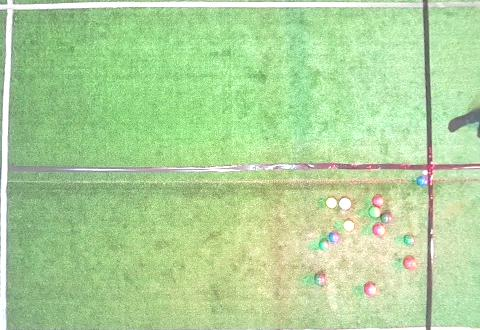blue: (329, 232, 339, 242), (417, 176, 427, 186)
green: (369, 207, 380, 218), (315, 275, 326, 285), (404, 236, 414, 245), (381, 214, 391, 223), (319, 241, 328, 249)
red: (339, 198, 351, 210), (365, 283, 376, 296), (404, 258, 417, 269), (373, 225, 385, 235), (373, 196, 383, 206)
vline: (422, 0, 479, 329), (0, 0, 15, 329)
white: (423, 171, 427, 175)
yellow: (326, 198, 337, 208), (344, 221, 354, 231)
